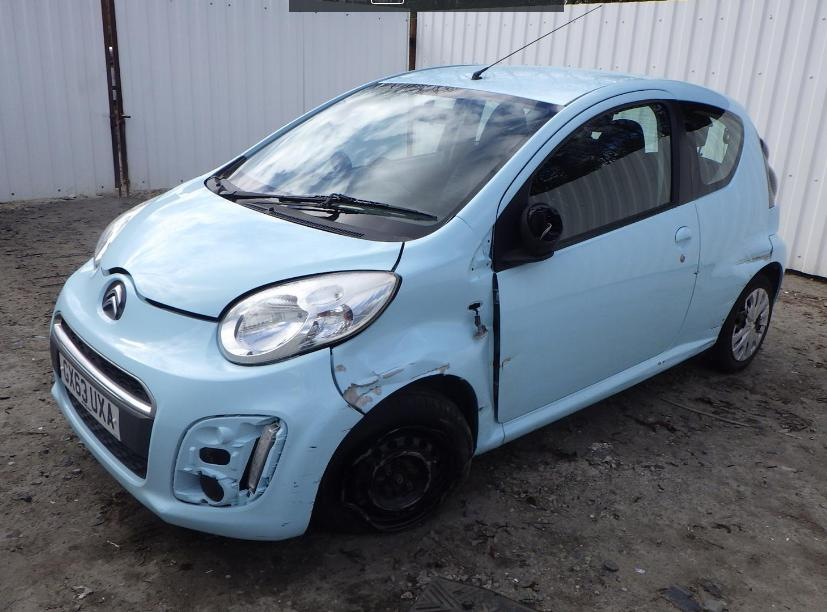Back-bumper: (769, 233, 787, 284)
Back-wheel: (711, 273, 773, 371)
Back-window: (677, 100, 744, 202)
Fender: (331, 216, 504, 456)
Front-bumper: (49, 258, 364, 539)
Front-door: (493, 90, 701, 423)
Front-wheel: (312, 385, 474, 534)
Front-window: (529, 103, 673, 241)
Grille: (50, 316, 157, 479)
Headlight: (217, 271, 400, 365), (94, 197, 159, 267)
Hood: (99, 172, 404, 318)
License-plate: (60, 352, 120, 440)
Quarter-panel: (674, 124, 779, 346)
Rocker-panel: (502, 338, 715, 443)
Roof: (378, 65, 665, 107)
Tail-light: (755, 130, 778, 208)
Windshield: (204, 83, 564, 242)
